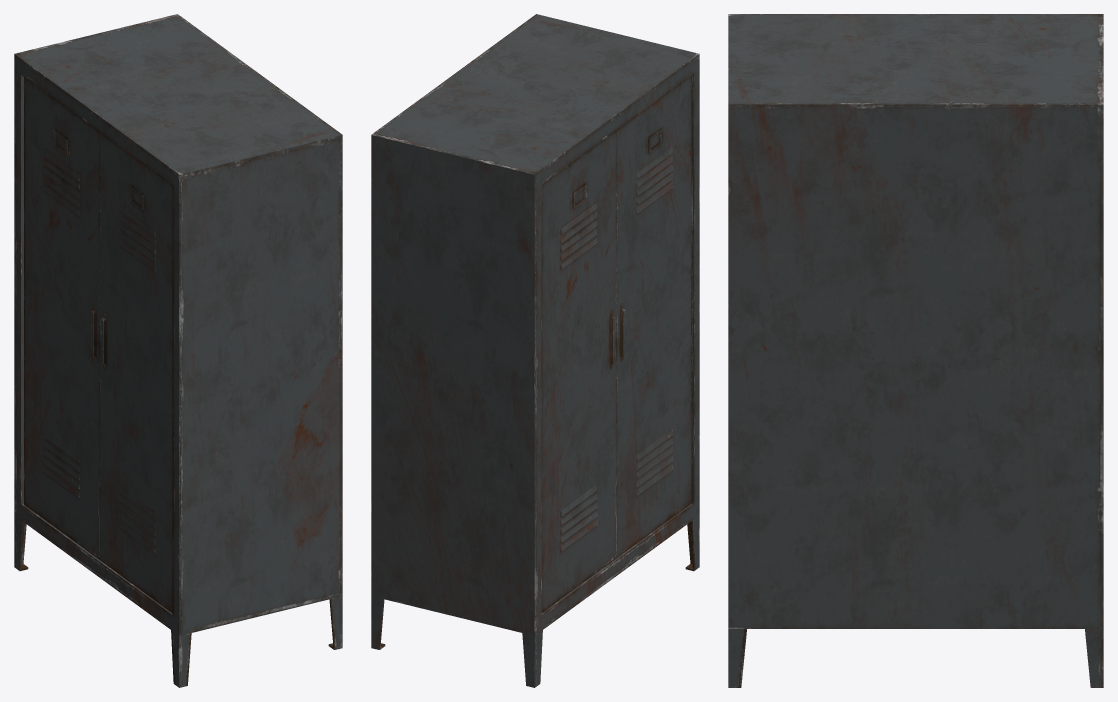
The model's file is S_CabinetB.fbx.
3 views of the same model, side by side, from view 1: azimuth 30°, elevation 25°; view 2: azimuth 150°, elevation 25°; view 3: azimuth 270°, elevation 25° (orthographic). The views are drawn at different scales.
Parts seen in each view (by area): view 1: S_CabinetB, S_CabinetB_Door1, S_CabinetB_Door2; view 2: S_CabinetB, S_CabinetB_Door1, S_CabinetB_Door2; view 3: S_CabinetB.
Part boxes in pixels (x1,y1,x2,y2): S_CabinetB: [14, 14, 342, 687]; S_CabinetB_Door1: [24, 77, 99, 559]; S_CabinetB_Door2: [99, 133, 172, 612]; S_CabinetB: [371, 14, 699, 687]; S_CabinetB_Door1: [541, 131, 616, 612]; S_CabinetB_Door2: [616, 76, 691, 557]; S_CabinetB: [728, 14, 1103, 687].
Bounding box in the file's own units: 23.74 × 41.34 × 70.87.
